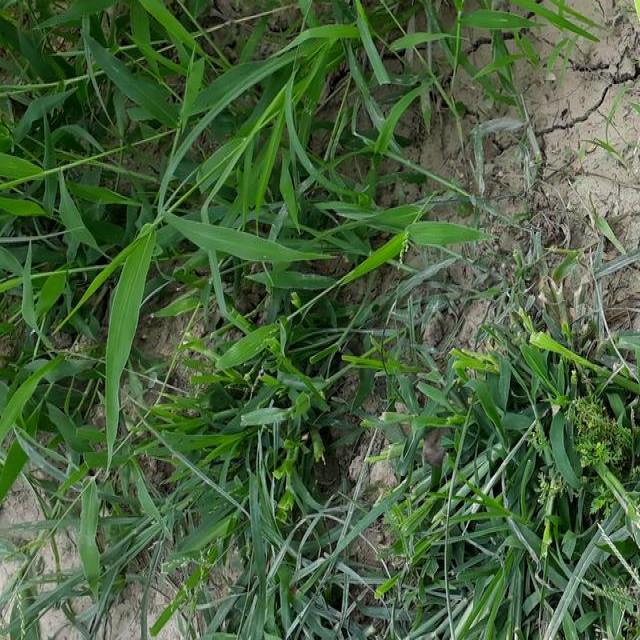weed: (0, 9, 378, 318), (389, 344, 640, 640)
